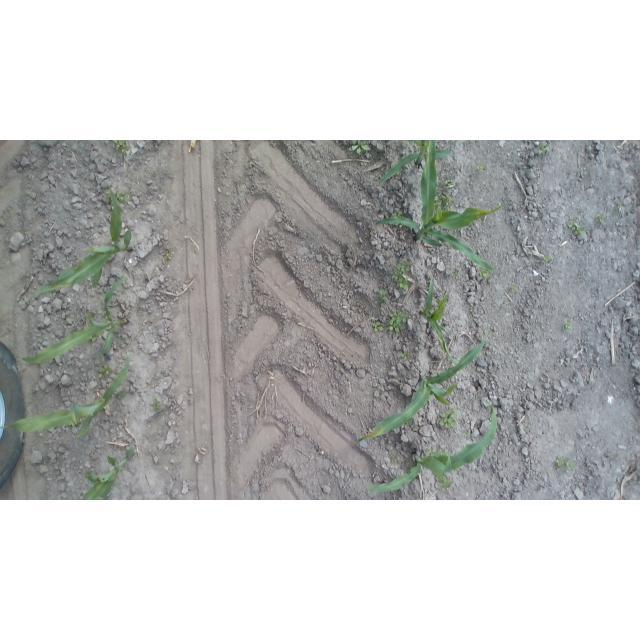Maize: (376, 140, 506, 278), (353, 323, 492, 447), (21, 188, 139, 301), (363, 406, 501, 495), (0, 353, 136, 439), (22, 277, 131, 368), (418, 279, 462, 368), (376, 142, 455, 188), (80, 445, 137, 500)
Weeds: (392, 258, 412, 296), (434, 182, 455, 211), (388, 311, 408, 334), (439, 410, 460, 431), (555, 456, 579, 473), (348, 140, 374, 154), (103, 189, 130, 202), (567, 219, 586, 237), (148, 396, 167, 413), (163, 242, 178, 262), (438, 474, 455, 491), (112, 141, 131, 156), (98, 364, 117, 379), (372, 289, 391, 303), (537, 140, 552, 156), (372, 320, 385, 334), (478, 266, 490, 281), (451, 267, 462, 283), (613, 201, 625, 214), (541, 253, 555, 264), (561, 319, 573, 331), (476, 162, 487, 174), (597, 214, 608, 225), (462, 429, 473, 439), (511, 282, 522, 292), (391, 211, 402, 220), (390, 456, 402, 464), (400, 350, 408, 362), (468, 305, 477, 315)
